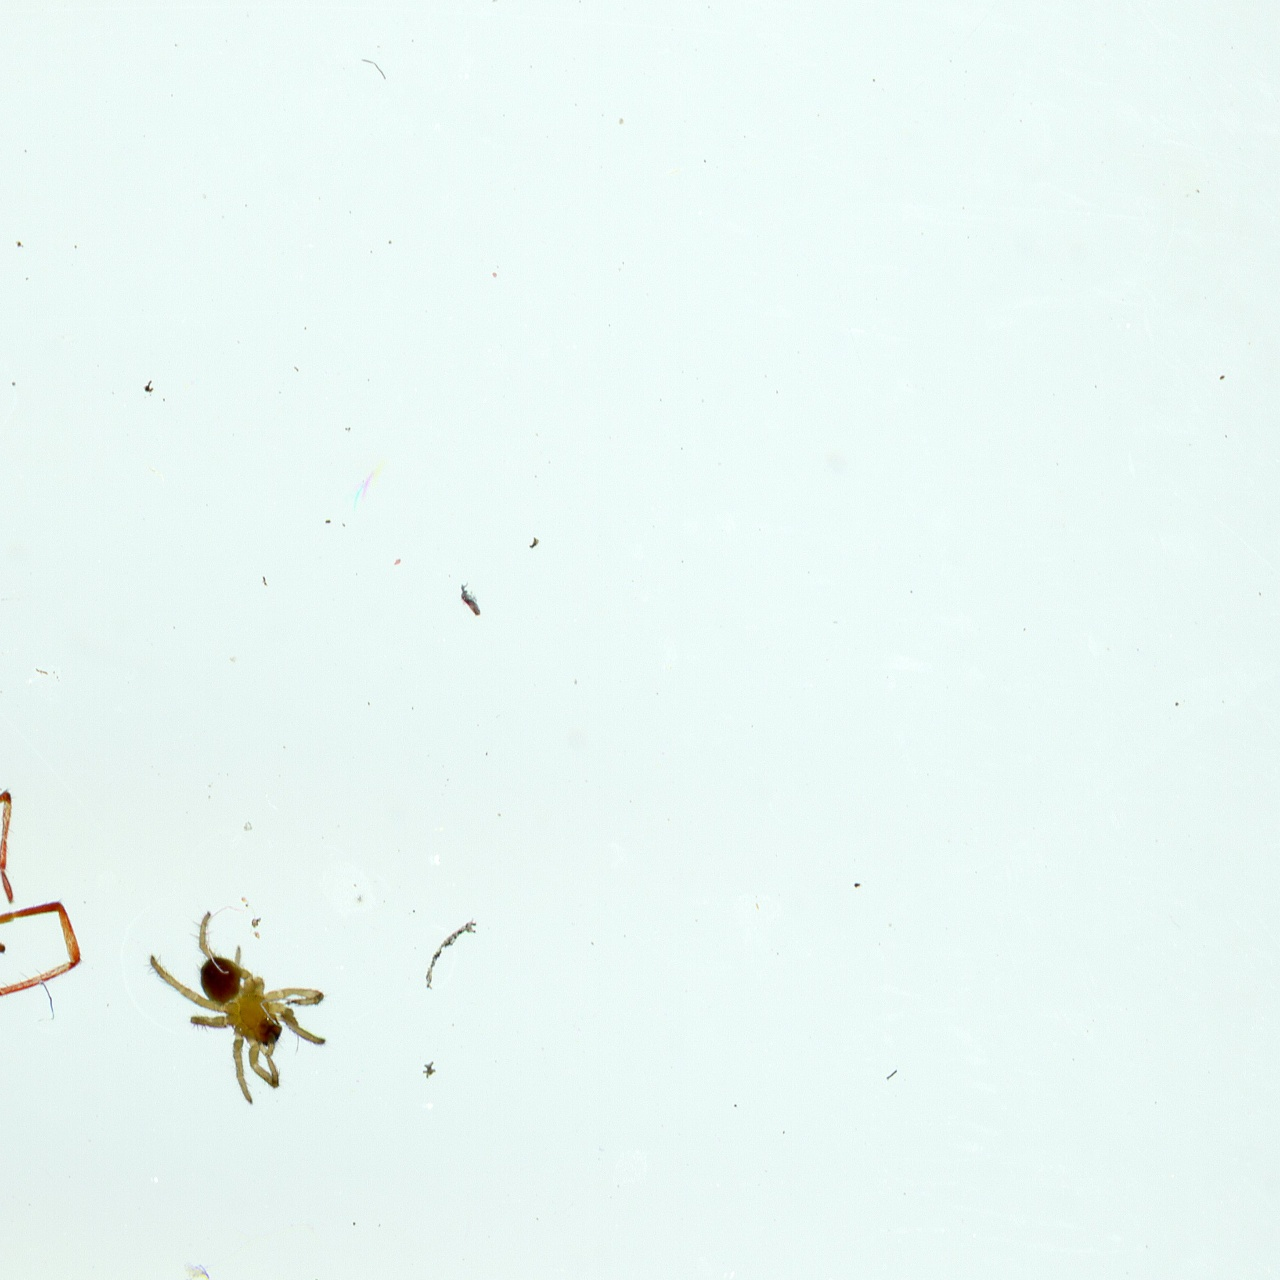arthropod: (0, 767, 145, 1197), (127, 875, 362, 1117), (450, 576, 493, 627), (282, 1271, 346, 1280)
